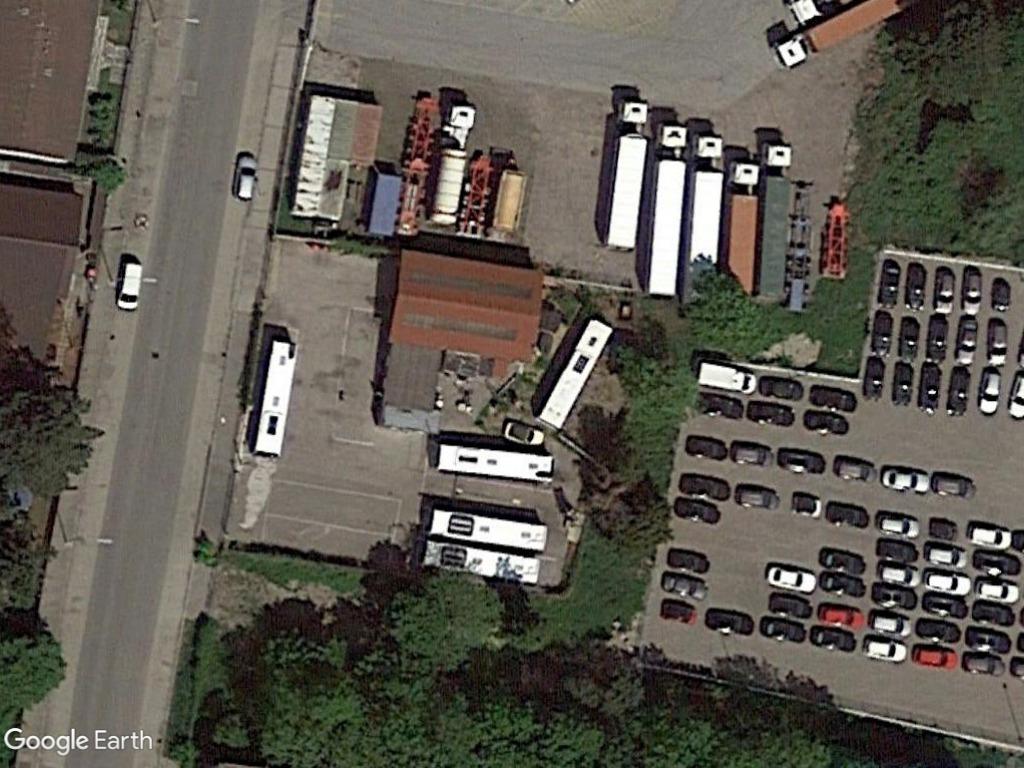bus: (535, 316, 612, 429), (251, 334, 301, 458), (424, 506, 551, 554), (433, 440, 557, 486)
car: (917, 567, 974, 602), (657, 571, 711, 602), (879, 465, 933, 495), (500, 417, 547, 451), (766, 563, 819, 593), (964, 522, 1015, 553), (953, 314, 981, 368), (831, 456, 881, 486), (923, 540, 971, 571), (232, 151, 259, 205), (932, 264, 959, 318), (874, 561, 924, 590), (975, 366, 1004, 416), (974, 577, 1022, 607), (929, 471, 976, 500), (984, 319, 1010, 370), (736, 486, 783, 514), (817, 604, 867, 630), (862, 638, 910, 665), (960, 264, 985, 315), (730, 443, 777, 470), (912, 642, 959, 669), (876, 514, 923, 540), (960, 649, 1005, 676), (867, 613, 913, 639)
longvehicle: (642, 121, 690, 302), (600, 97, 654, 256), (751, 142, 796, 301), (684, 133, 725, 264), (722, 158, 762, 274)
van: (695, 358, 760, 395), (116, 257, 146, 311)
